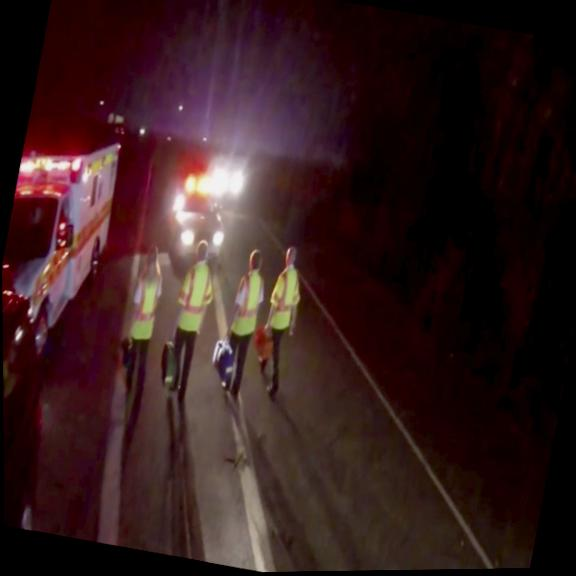safety_vest: (171, 255, 223, 336), (226, 265, 268, 339), (264, 262, 306, 334), (127, 271, 166, 344)
